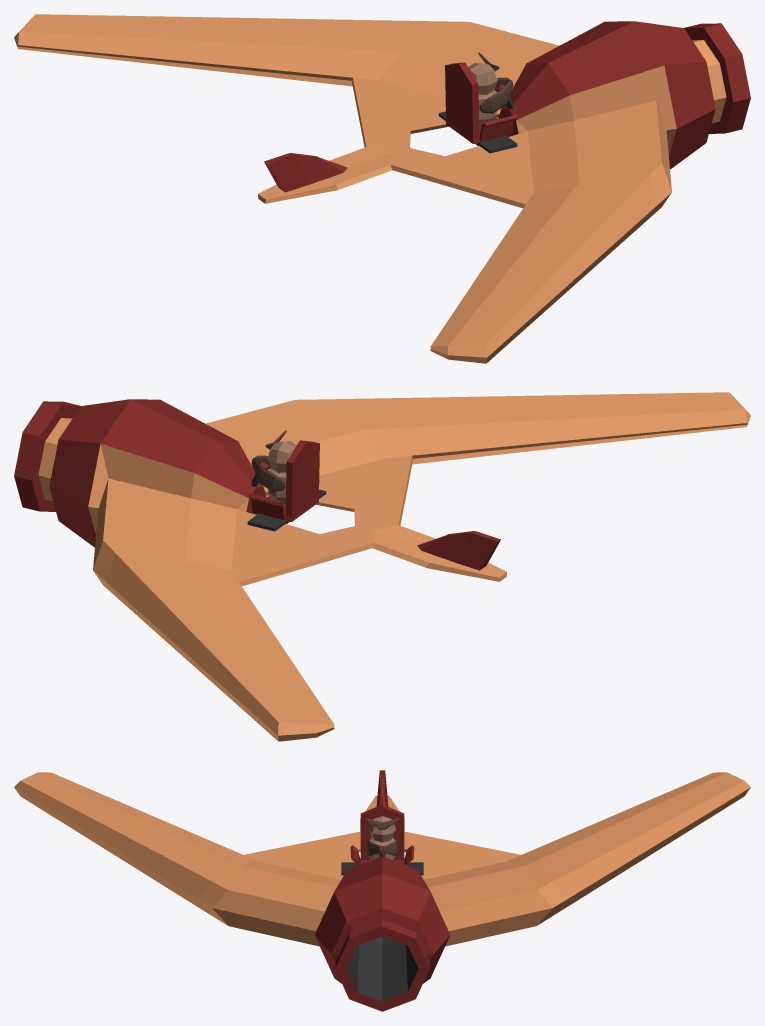
File: FlyingCreature_02.fbx
3 views of the same model, one above another, from view 1: azimuth 30°, elevation 25°; view 2: azimuth 150°, elevation 25°; view 3: azimuth 270°, elevation 25° (orthographic). The views are drawn at different scales.
Visible parts, largest first — view 1: FlyingCreature_02; view 2: FlyingCreature_02; view 3: FlyingCreature_02.
Boxes of the visible parts, x1=… form: FlyingCreature_02: x1=14, y1=14, x2=750, y2=363; FlyingCreature_02: x1=14, y1=392, x2=750, y2=741; FlyingCreature_02: x1=14, y1=770, x2=750, y2=1011.
Bounding box in the file's own units: 1.3 × 0.3837 × 2.08.
